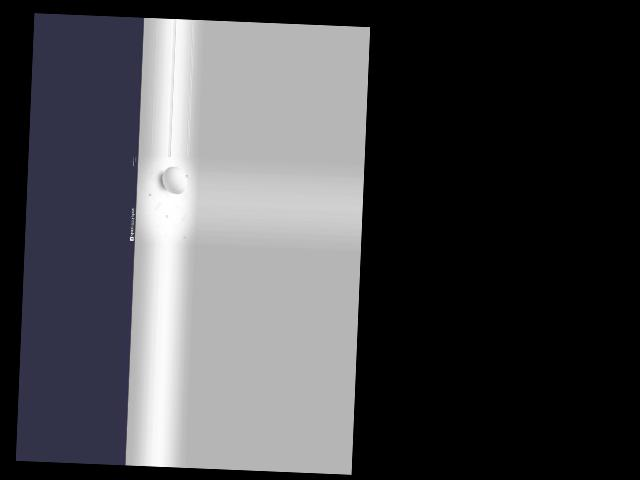egg: (161, 165, 187, 193)
